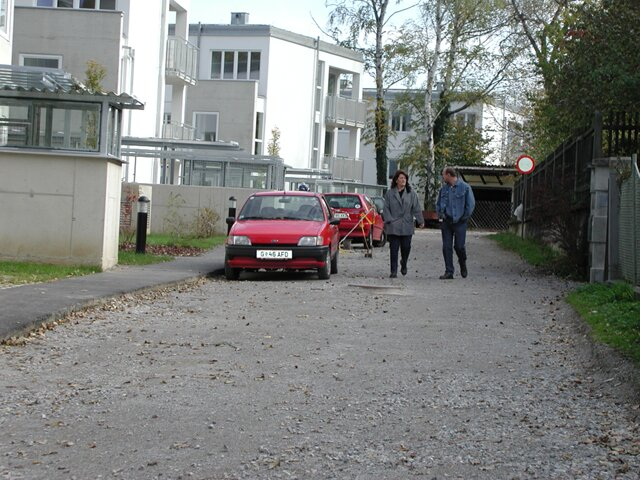person: (433, 164, 480, 282), (384, 162, 424, 276)
